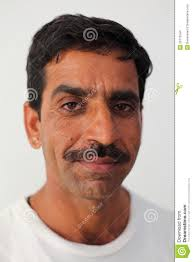Indian_Male: (41, 37, 152, 199)
